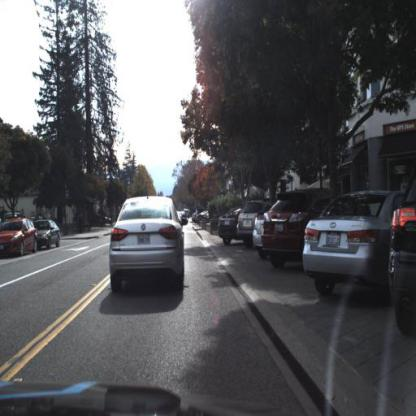car: (304, 192, 390, 299), (109, 193, 187, 296), (389, 160, 416, 337), (262, 193, 303, 271), (1, 217, 37, 253), (37, 220, 60, 251), (219, 212, 237, 249), (238, 206, 253, 250)
